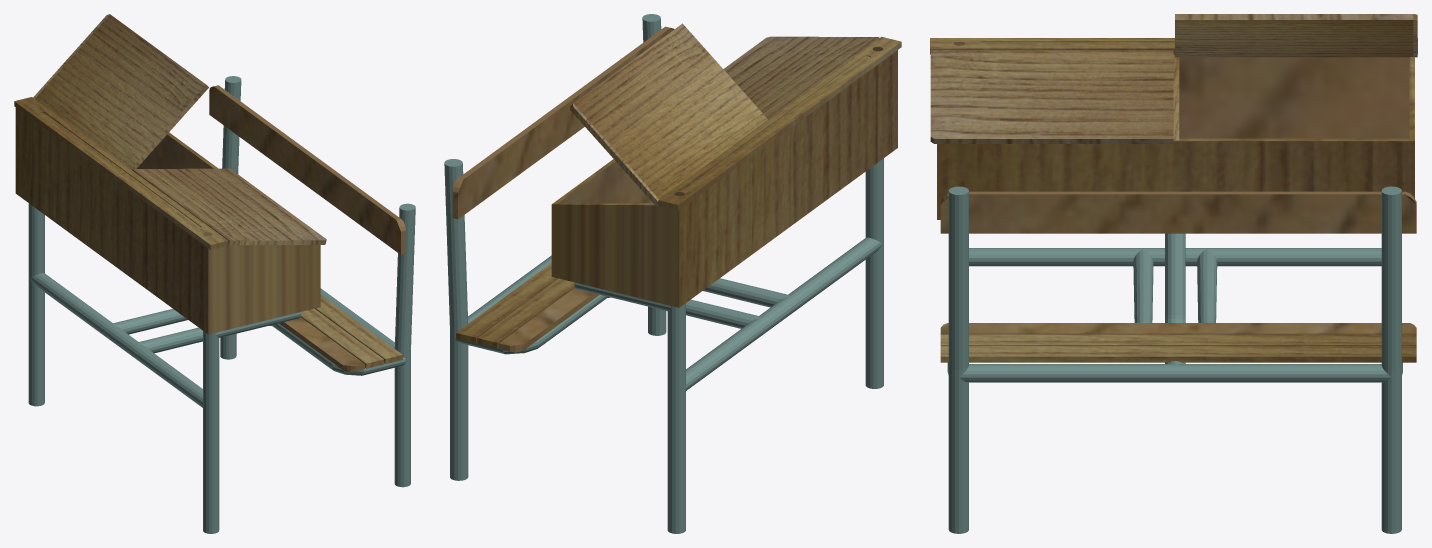
The model's file is sweethome3d-contributions-school-desk-292.glb.
The picture shows the model from 3 angles, left to right: view 1: azimuth 30°, elevation 25°; view 2: azimuth 150°, elevation 25°; view 3: azimuth 270°, elevation 25°; orthographic projection. The views are drawn at different scales.
Visible parts, largest first — view 1: Casier, Armature, couvercle2, couvercle1, planche_do, planche_en, planche_bi, planche_1, planche_2, casier_int; view 2: Casier, Armature, couvercle2, couvercle1, planche_do, planche_en, casier_int, planche_bi, planche_1, planche_2; view 3: Armature, Casier, couvercle1, casier_int, planche_do, couvercle2, planche_1, planche_2, planche_bi, planche_en, separation.
Boxes of the visible parts, x1,y1,x2,y2 form: Casier: [15, 107, 320, 334]; Armature: [28, 76, 415, 533]; couvercle2: [33, 14, 208, 169]; couvercle1: [132, 168, 326, 245]; planche_do: [209, 85, 405, 254]; planche_en: [14, 97, 228, 249]; planche_bi: [279, 317, 364, 372]; planche_1: [315, 295, 402, 363]; planche_2: [301, 308, 383, 368]; casier_int: [28, 104, 213, 168]; Casier: [551, 50, 897, 307]; Armature: [444, 14, 883, 533]; couvercle2: [570, 23, 767, 205]; couvercle1: [723, 36, 879, 119]; planche_do: [452, 26, 674, 219]; planche_en: [658, 36, 901, 210]; casier_int: [558, 46, 883, 203]; planche_bi: [499, 288, 599, 352]; planche_1: [456, 263, 558, 343]; planche_2: [477, 278, 574, 348]; Armature: [947, 186, 1402, 533]; Casier: [937, 41, 1414, 219]; couvercle1: [930, 50, 1173, 143]; casier_int: [954, 42, 1409, 138]; planche_do: [940, 191, 1416, 233]; couvercle2: [1175, 14, 1417, 57]; planche_1: [940, 345, 1416, 362]; planche_2: [940, 334, 1416, 345]; planche_bi: [940, 323, 1416, 334]; planche_en: [930, 38, 1417, 54]; separation: [1173, 54, 1179, 140].
Bounding box in the file's own units: 5 × 8.02 × 7.89.
Materials: 12 (10 with a texture image).
